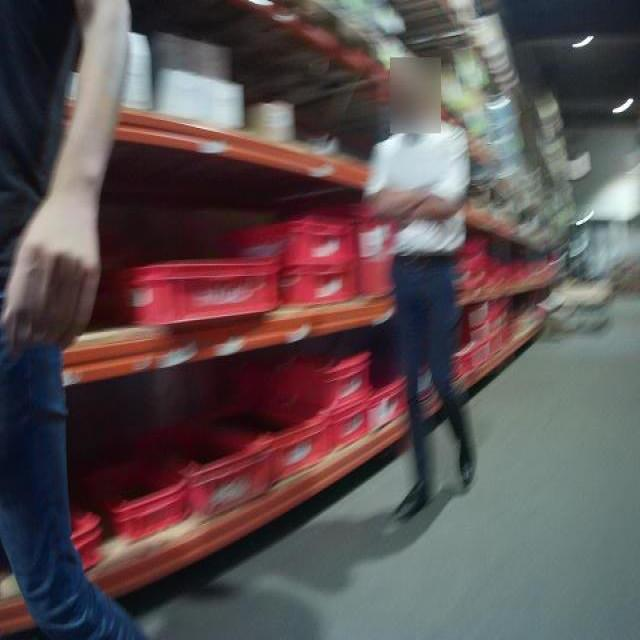small_load_carrier: (134, 416, 279, 509), (98, 251, 279, 321), (196, 399, 330, 490), (83, 463, 197, 541), (232, 345, 376, 400), (218, 217, 361, 261), (270, 264, 361, 316), (358, 372, 409, 436), (70, 505, 108, 579), (330, 403, 368, 456)
